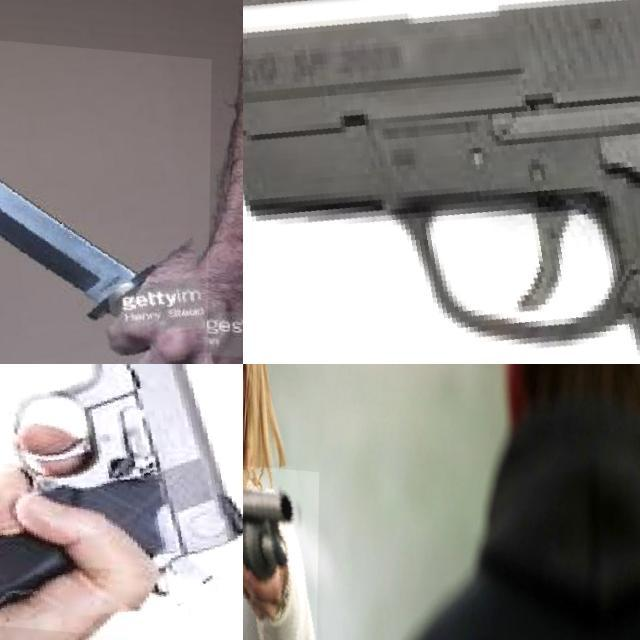-: (0, 27, 212, 364)
gun-knife-thesis - v11 Yolov5 augmented: (243, 0, 640, 364), (0, 364, 243, 636), (243, 456, 320, 640)
